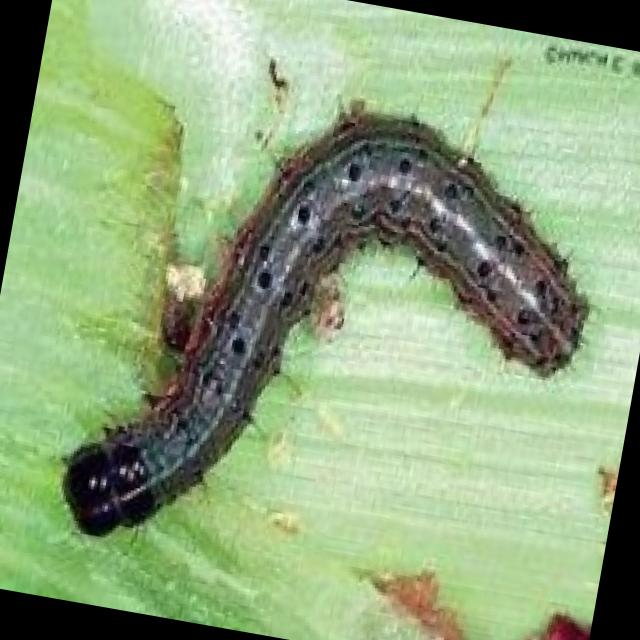armyworm: (24, 49, 640, 636)
